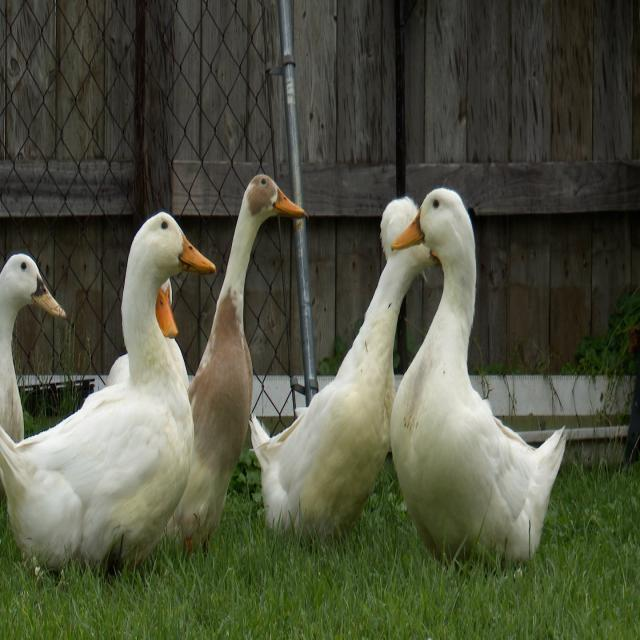Duck: (0, 194, 218, 588), (386, 175, 570, 568), (256, 145, 436, 526), (186, 149, 312, 527), (0, 227, 69, 429)
